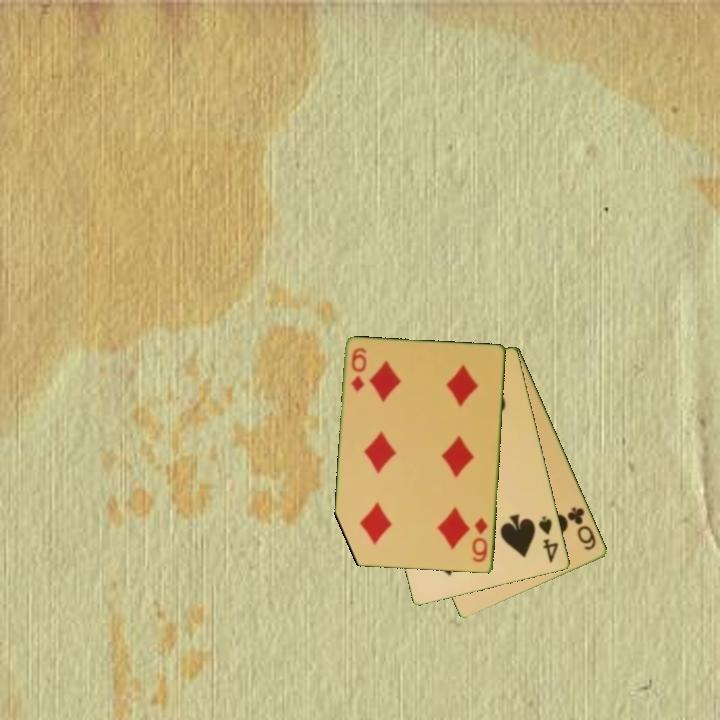4s: (535, 513, 562, 566)
6c: (564, 503, 599, 553)
6d: (469, 515, 491, 566), (348, 344, 370, 395)
